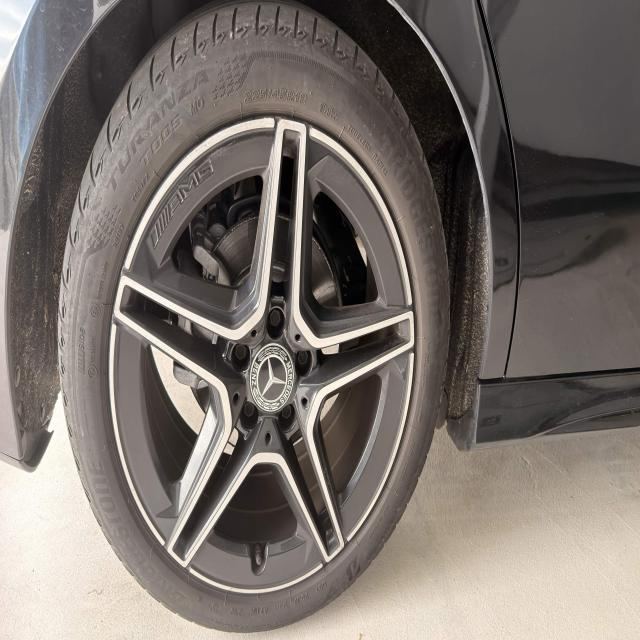jante: (107, 118, 416, 595)
parafuso: (226, 338, 253, 378), (264, 300, 286, 342), (292, 343, 314, 383), (272, 401, 299, 432), (240, 395, 259, 430)
roda: (56, 1, 452, 636)
